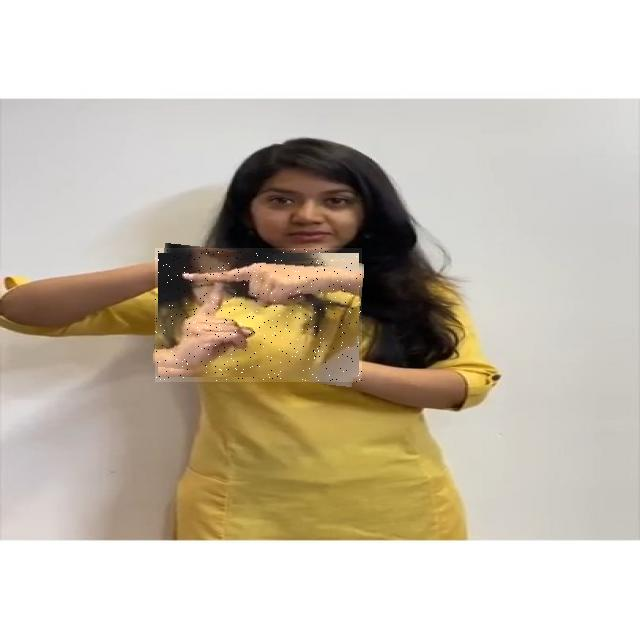T: (155, 248, 362, 382)
